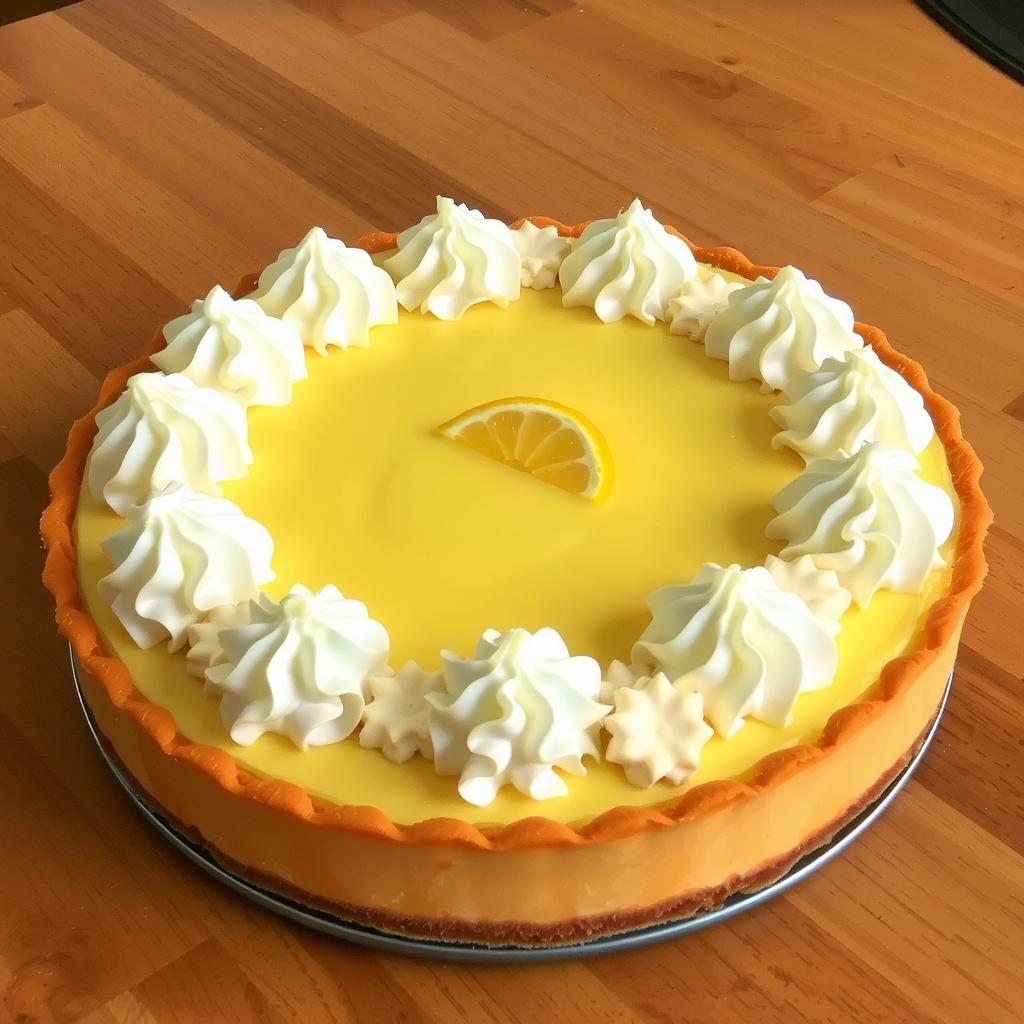pie: (34, 186, 997, 959)
